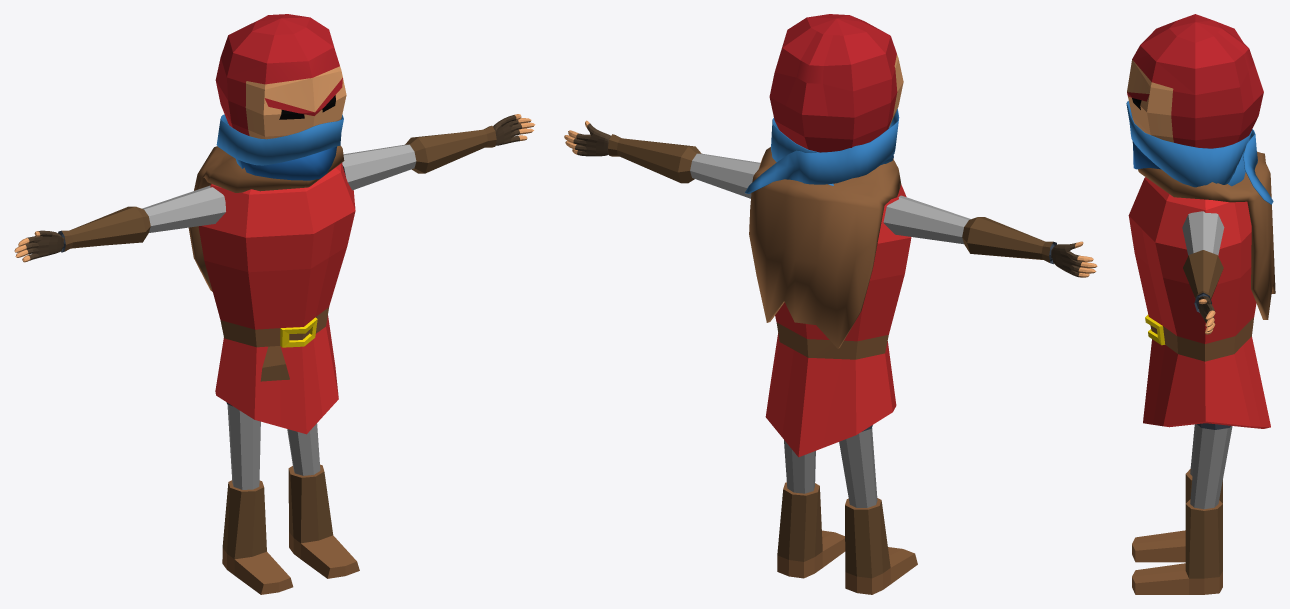
Rendered from Archer2.fbx.
The picture shows the model from 3 angles, left to right: view 1: azimuth 30°, elevation 25°; view 2: azimuth 150°, elevation 25°; view 3: azimuth 270°, elevation 25°; orthographic projection. The views are drawn at different scales.
Visible parts, largest first — view 1: Archer; view 2: Archer; view 3: Archer.
Part boxes in pixels (x1,y1,x2,y2): Archer: (14,14,535,594); Archer: (564,14,1097,594); Archer: (1126,14,1275,594).
Bounding box in the file's own units: 1.66 × 1.65 × 0.4067.
Materials: 1 (1 with a texture image).
